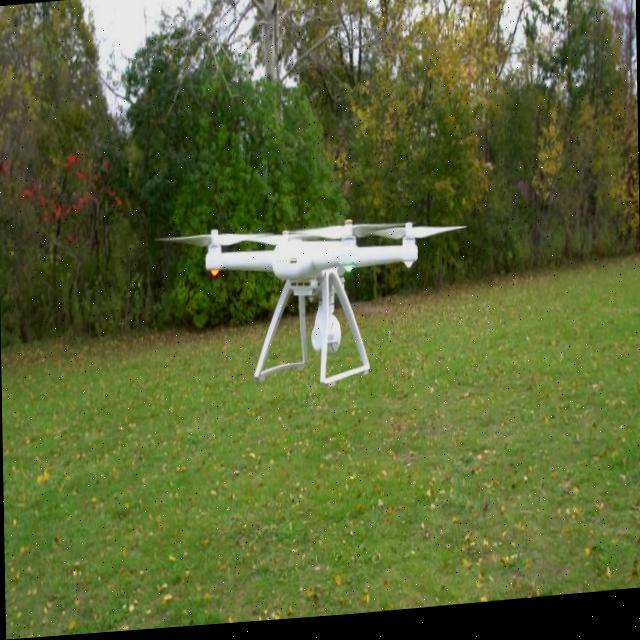drone: (150, 198, 472, 333)
